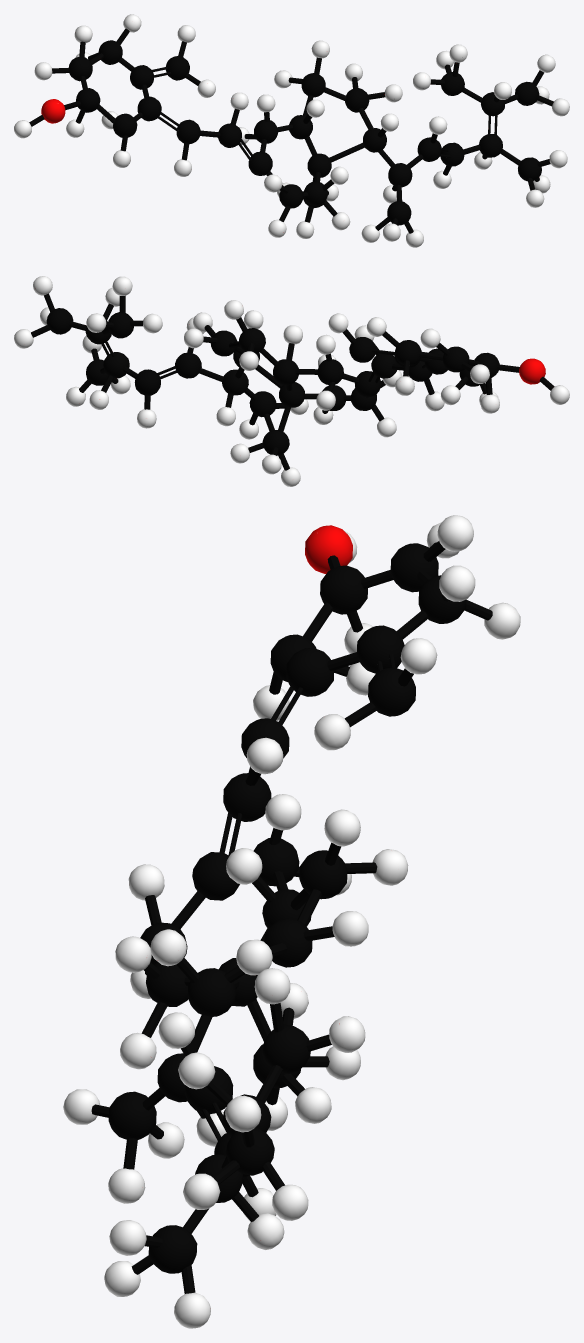
Rendered from vitamin_d.glb.
The picture shows the model from 3 angles, top to bottom: view 1: azimuth 30°, elevation 25°; view 2: azimuth 150°, elevation 25°; view 3: azimuth 270°, elevation 25°; orthographic projection. The views are drawn at different scales.
Parts seen in each view (by area): view 1: pCylinder20; view 2: pCylinder20; view 3: pCylinder20.
Boxes of the visible parts, box(x1,y1,x2,y2) form: pCylinder20: box(14, 14, 569, 247); pCylinder20: box(14, 276, 569, 486); pCylinder20: box(63, 515, 520, 1328).
Size of the model in its own units: 0.4378 by 0.1776 by 0.1664.
1 material, 1 textured.
